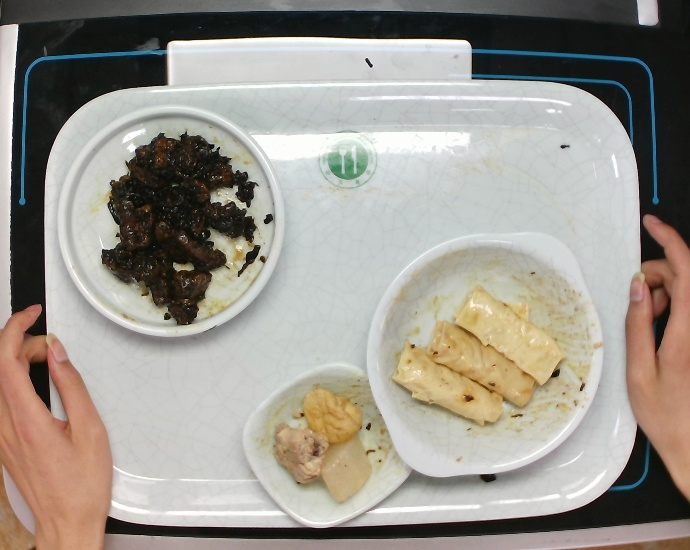JYsf-Shuang_Er_Wan: (362, 221, 609, 485)
JYsf-Si_Fang_Die: (236, 359, 416, 530)
JYsf-Xiao_Yuan_Pan: (45, 99, 290, 345)
